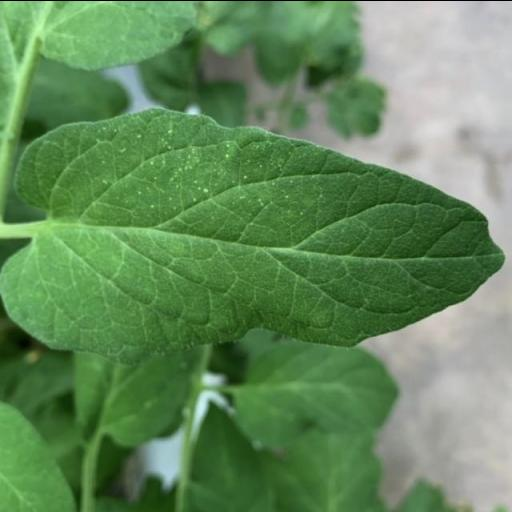disease_tomato: (0, 106, 504, 344)
